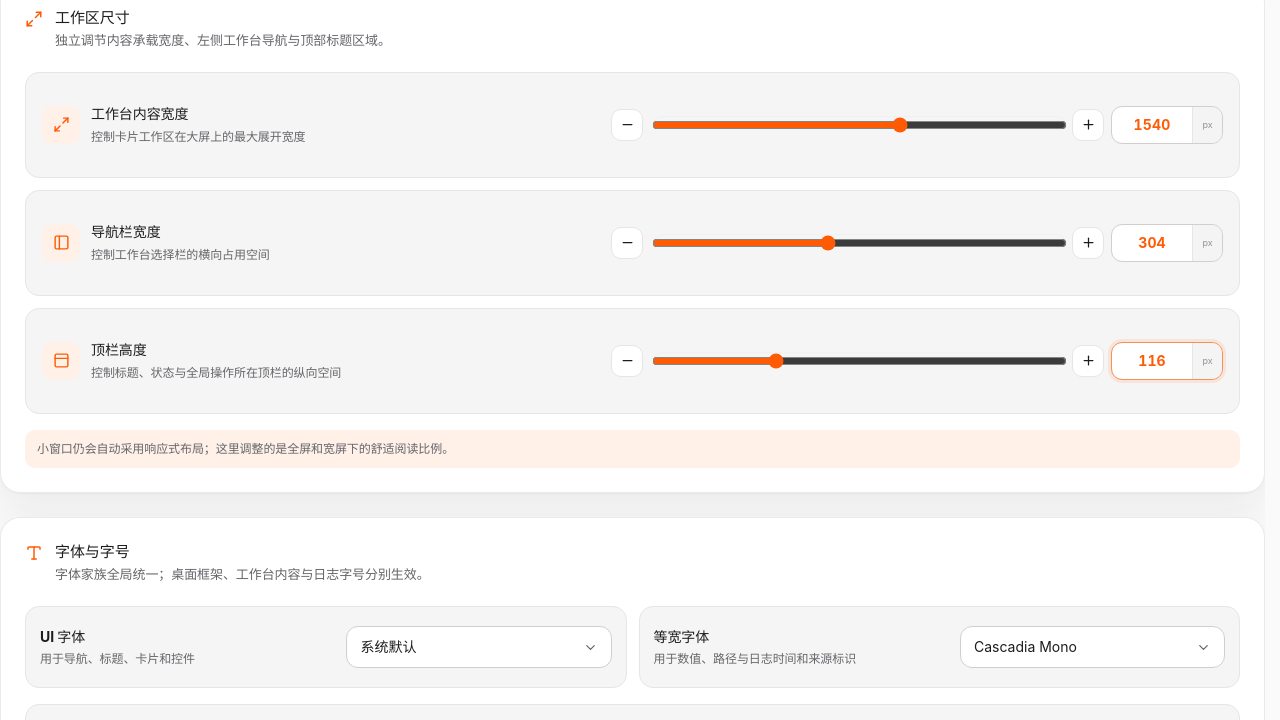
Test: discards an incomplete numeric draft on Escape without committing its clamped value on blur
(page scrolled)
Replace the text in the number field named "顶栏高度数值" with "1" at (1152, 360), box [1112, 342, 1192, 378]
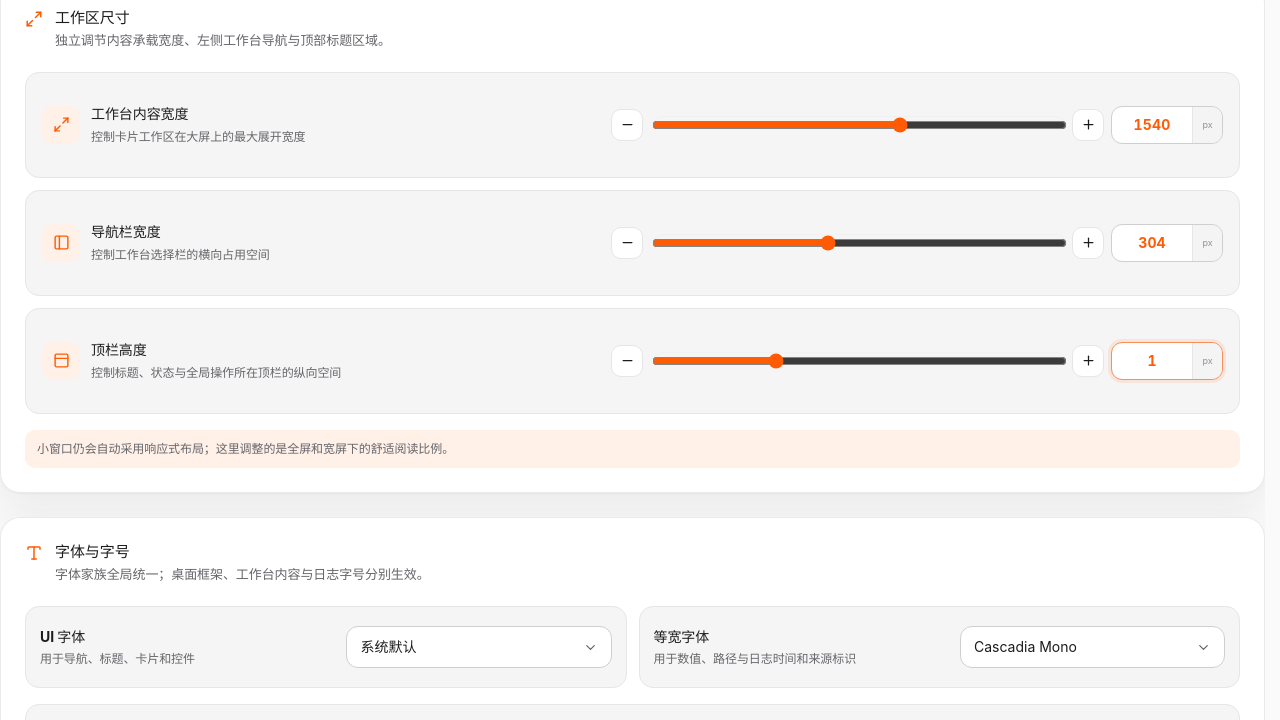
Press Escape in the number field named "顶栏高度数值", box [1112, 342, 1192, 378]
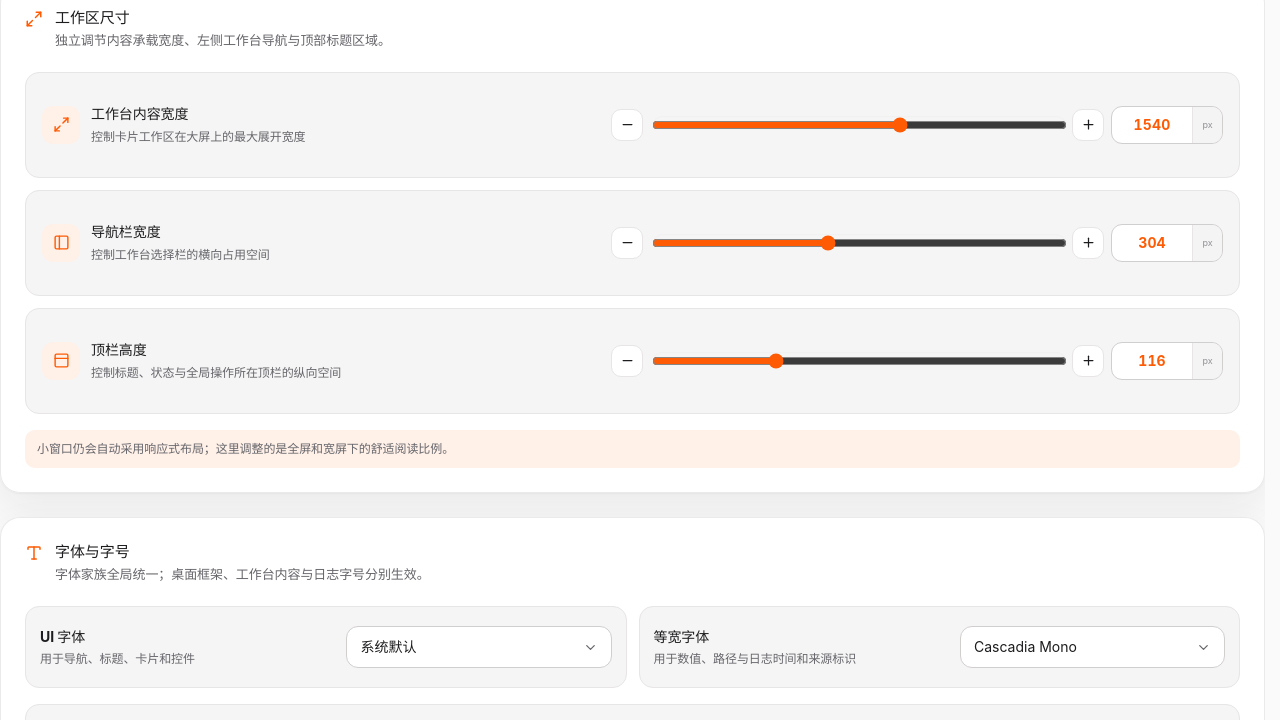
Now the number field named "顶栏高度数值" holds "116", box [1112, 342, 1192, 378]
